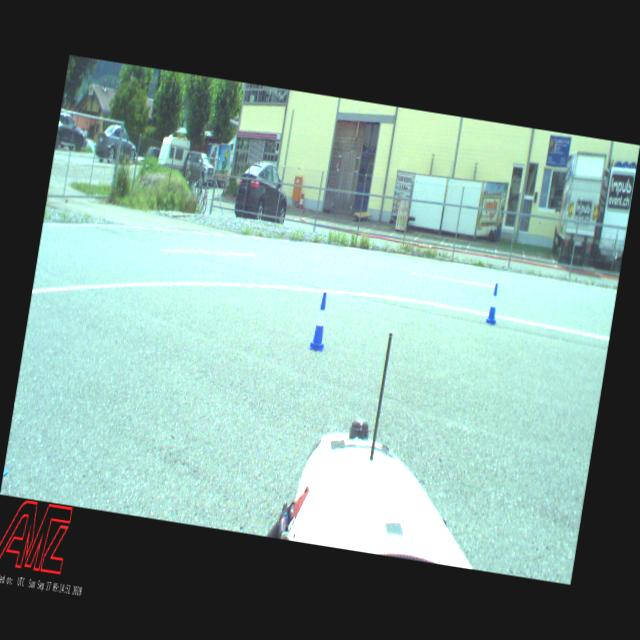blue_cone: (310, 292, 332, 352), (486, 284, 502, 324)
